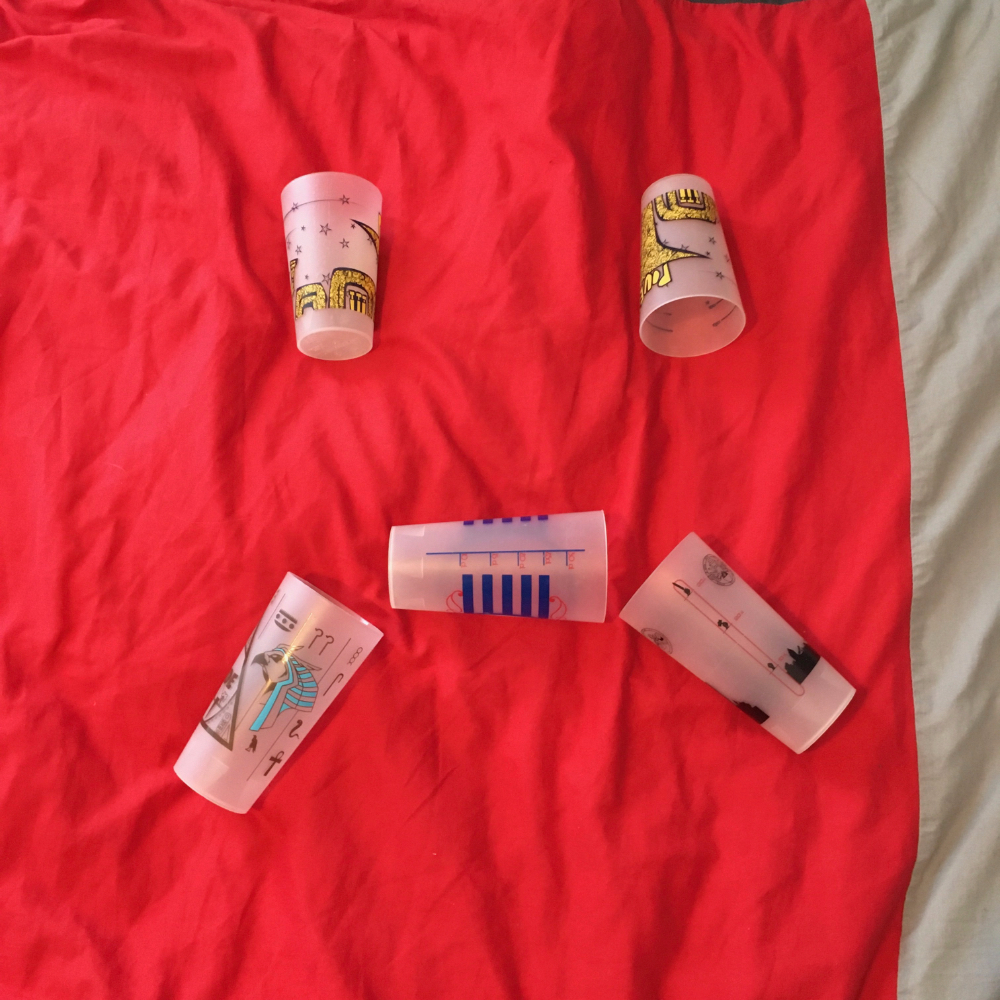ecocup: (619, 532, 856, 755), (172, 572, 384, 815), (387, 509, 608, 625), (639, 174, 747, 358), (281, 171, 381, 360)
